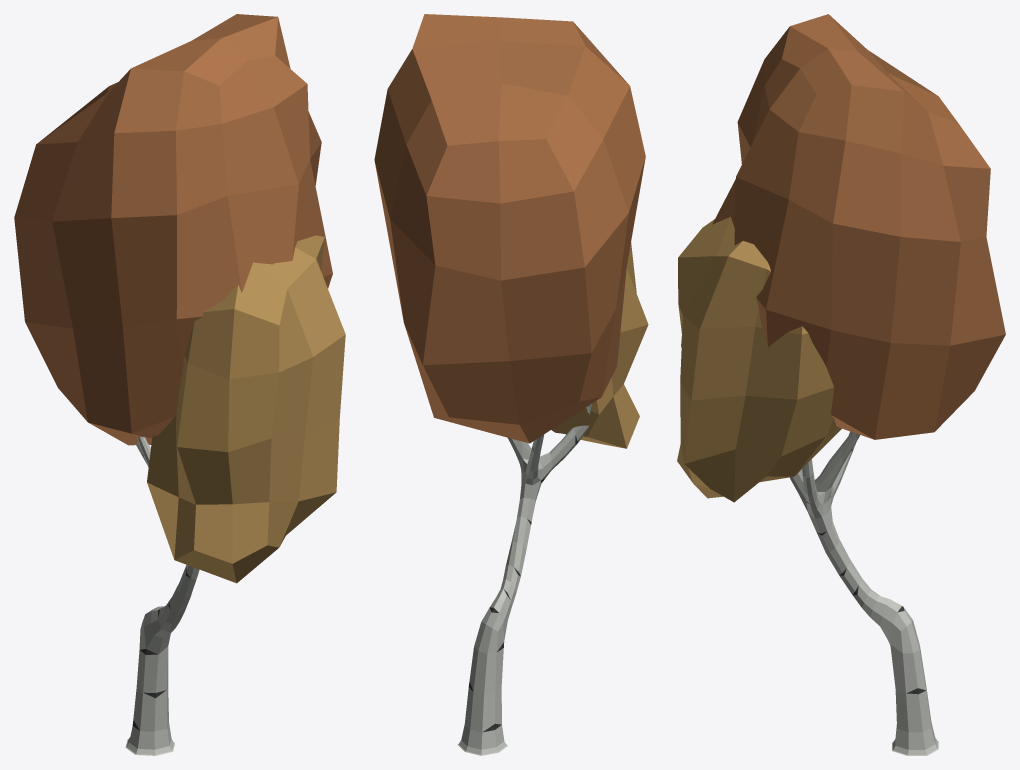
The model's file is BirchTree_Autumn_2.glb.
3 renders of one model, left to right at view 1: azimuth 30°, elevation 25°; view 2: azimuth 150°, elevation 25°; view 3: azimuth 270°, elevation 25°, orthographic. The views are drawn at different scales.
Parts seen in each view (by area): view 1: BirchTree_Autumn_2_Cube.083; view 2: BirchTree_Autumn_2_Cube.083; view 3: BirchTree_Autumn_2_Cube.083.
Part boxes in pixels (bbox=[...]): BirchTree_Autumn_2_Cube.083: bbox=[14, 14, 345, 755]; BirchTree_Autumn_2_Cube.083: bbox=[374, 14, 648, 755]; BirchTree_Autumn_2_Cube.083: bbox=[677, 14, 1005, 755].
Bounding box in the file's own units: 1.47 × 4.03 × 1.69.
